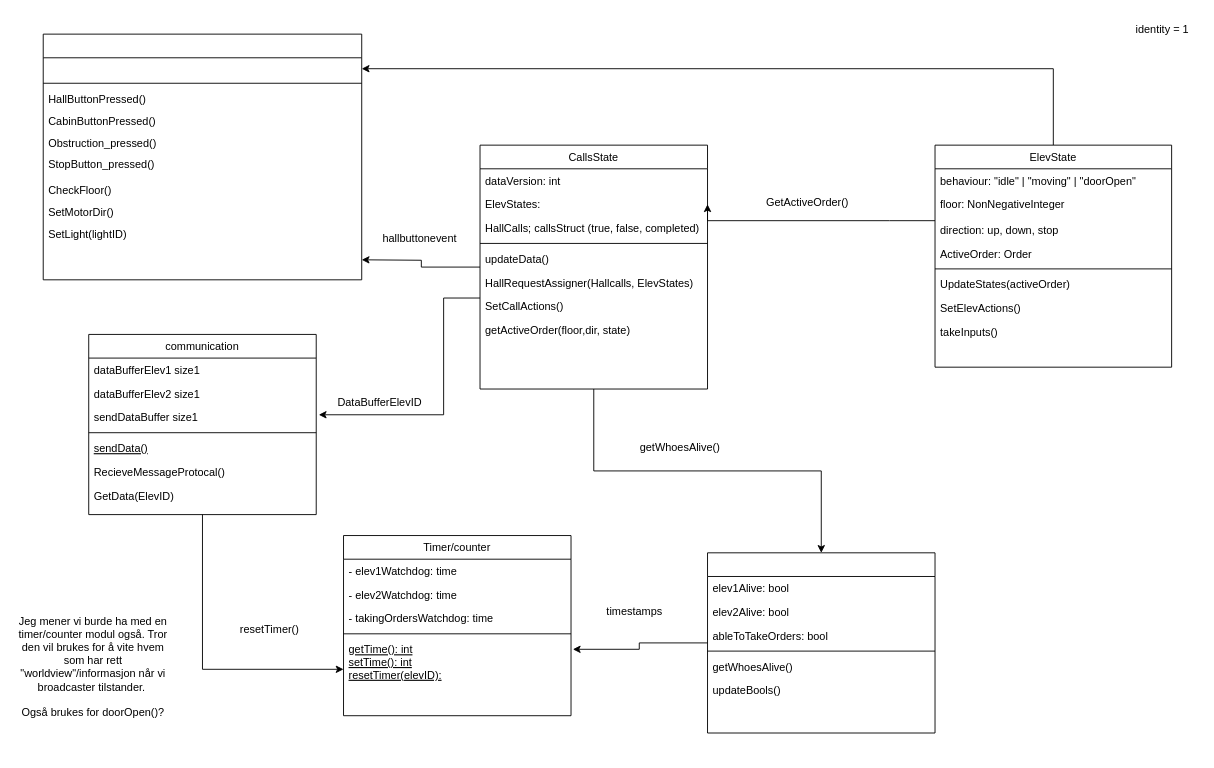
Image size: 1214x768. Some labels were removed from this diagram. The box of each missing label's shape, as (x1, y1, x2, y2) in pixels:
Driver (I/O): (42, 33, 362, 280)
faultHandler: (707, 552, 935, 733)
